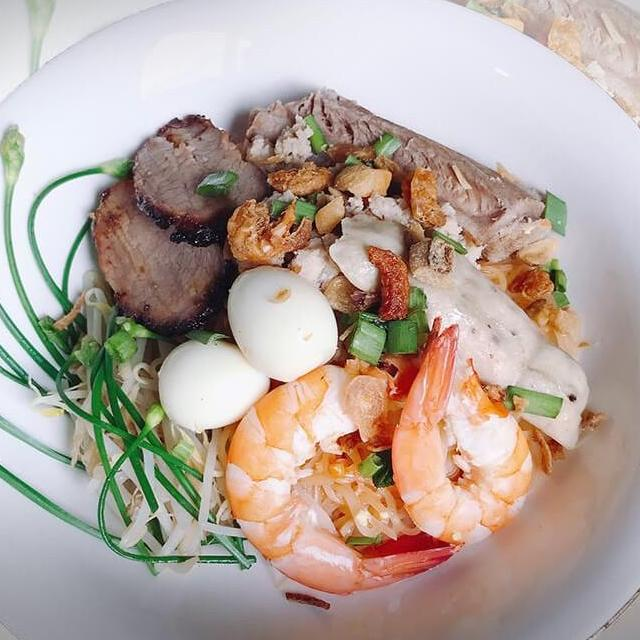thit heo: (230, 82, 559, 266), (80, 168, 252, 344), (120, 102, 283, 254)
tom: (215, 350, 472, 600), (382, 306, 540, 554)
trung: (220, 260, 341, 390), (150, 328, 279, 437)
